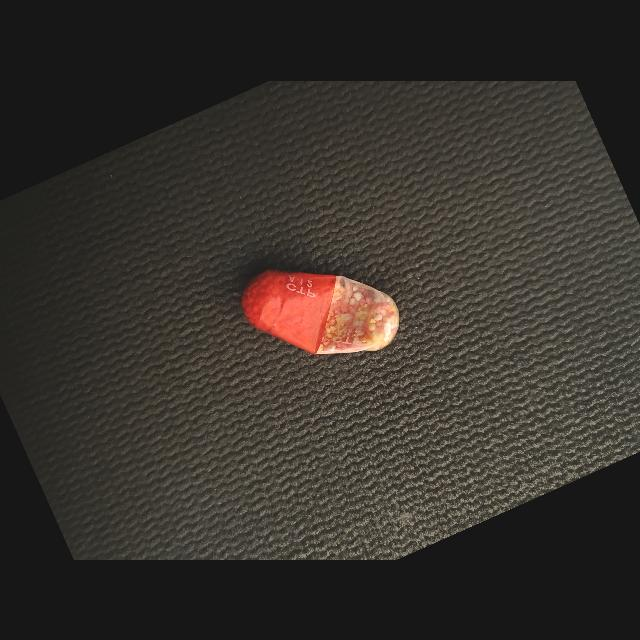Defective Capsule: (242, 269, 399, 354)
